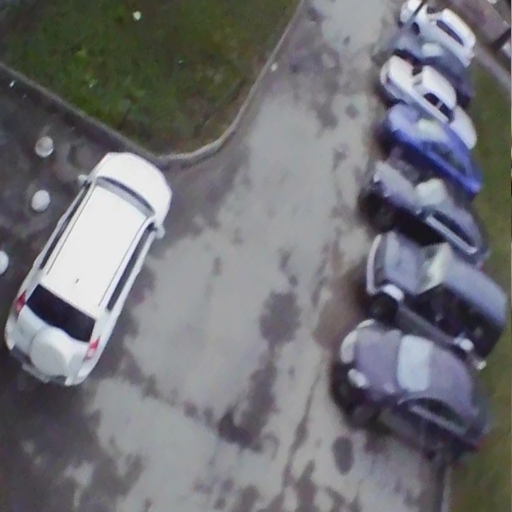Car: (1, 147, 173, 389), (334, 316, 488, 470), (361, 230, 506, 370), (360, 162, 488, 272), (378, 50, 479, 151), (381, 104, 485, 198), (389, 29, 473, 105), (396, 2, 474, 62)
